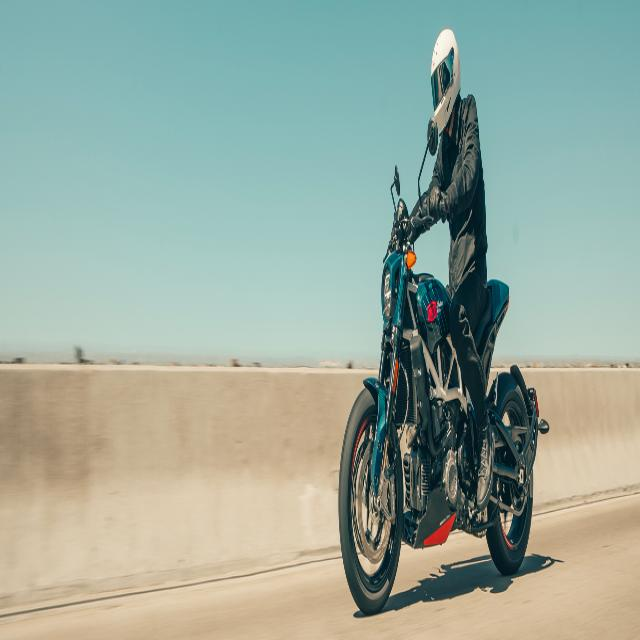motorcycle: (339, 28, 549, 616)
